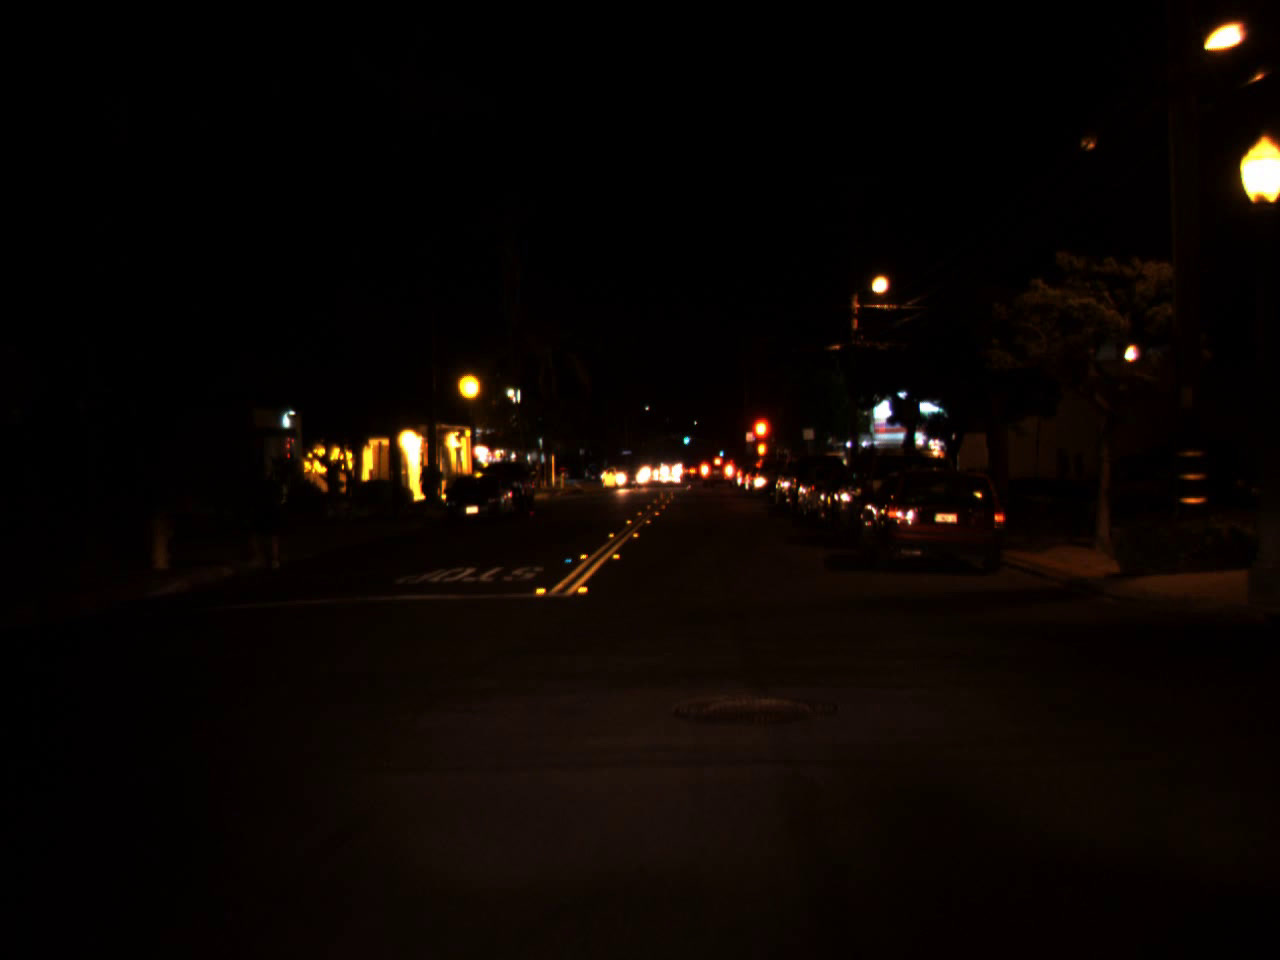go: (681, 430, 690, 445), (716, 442, 725, 457)
stop: (747, 415, 772, 463)
